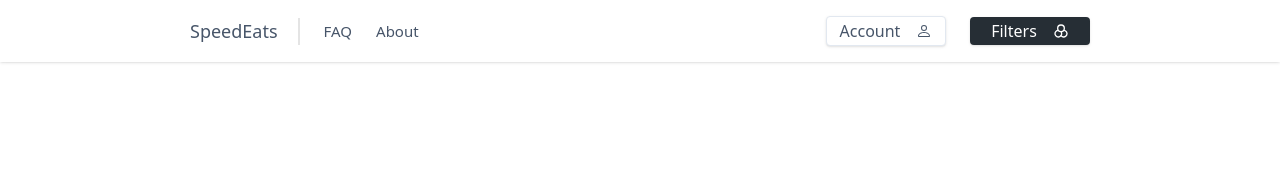
Render navbar dropdowns/buttons › should render the account dropdown
Click the button with test id "navbar-account__button" at point(886, 31), box 826,16 -> 946,46
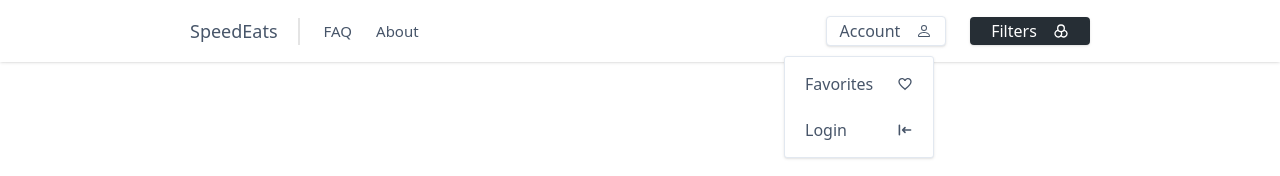
Now the element with test id "account-dropdown" is shown, box 784,56 -> 934,158
